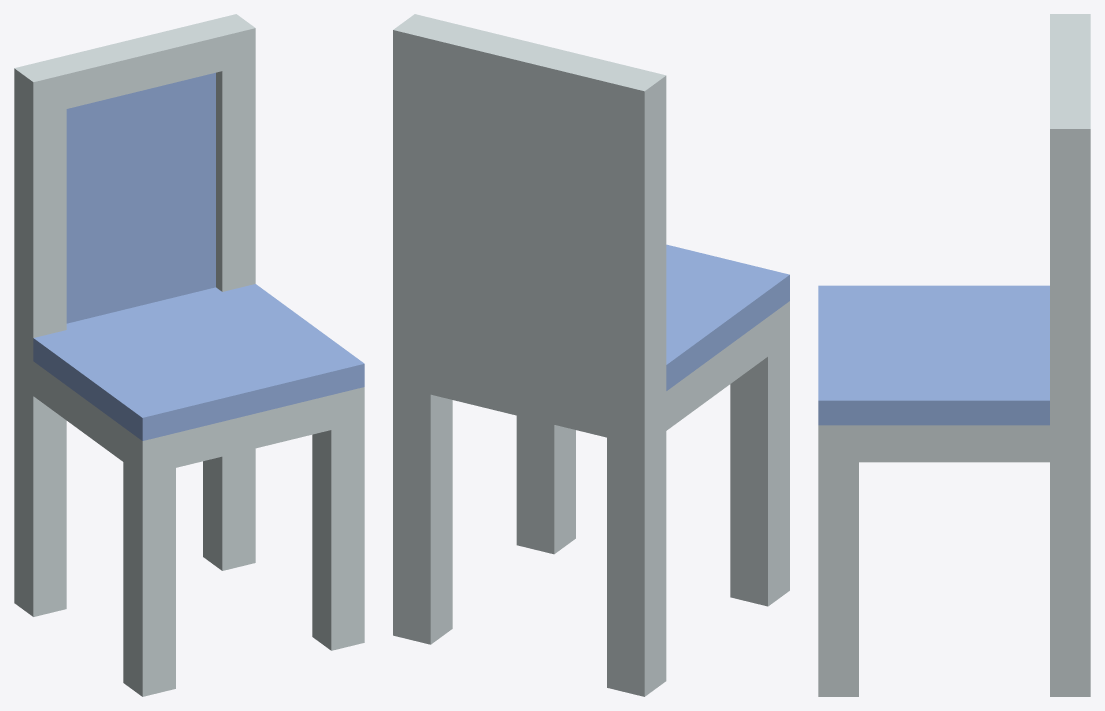
The model's file is chairModernCushion.glb.
The picture shows the model from 3 angles, left to right: view 1: azimuth 30°, elevation 25°; view 2: azimuth 150°, elevation 25°; view 3: azimuth 270°, elevation 25°; orthographic projection. The views are drawn at different scales.
Visible parts, largest first — view 1: chairModernCushion(Clone); view 2: chairModernCushion(Clone); view 3: chairModernCushion(Clone).
Part boxes in pixels (x1,y1,x2,y2): chairModernCushion(Clone): (14, 14, 364, 696); chairModernCushion(Clone): (393, 14, 789, 696); chairModernCushion(Clone): (818, 14, 1090, 696).
Bounding box in the file's own units: 0.406 × 0.9338 × 0.406.
Materials: 2 (2 with a texture image).
